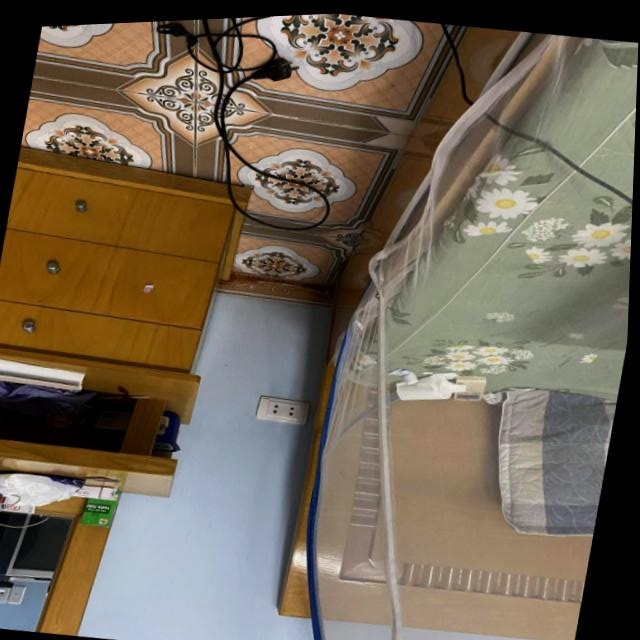outlet: (256, 392, 312, 427)
